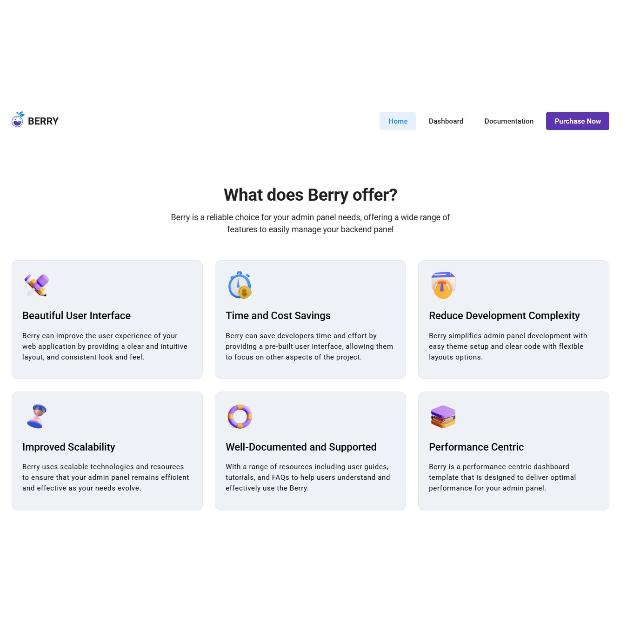QLabel: (20, 462, 192, 493), (224, 462, 392, 493), (224, 332, 393, 362), (20, 331, 188, 361), (427, 332, 589, 362), (428, 462, 578, 492), (224, 186, 398, 204), (171, 212, 451, 220), (428, 309, 580, 321), (227, 224, 395, 234), (224, 441, 378, 451), (20, 309, 132, 319), (225, 310, 331, 320), (22, 441, 116, 452), (429, 441, 525, 451), (484, 118, 534, 124), (555, 118, 601, 124), (28, 116, 58, 124), (428, 117, 464, 123), (388, 117, 408, 123)
VAppBar: (0, 105, 640, 142)
VBtn: (546, 110, 610, 130), (379, 110, 416, 130)
VCard: (10, 258, 204, 380), (214, 258, 406, 380), (214, 389, 406, 511), (418, 390, 610, 512), (418, 258, 610, 380), (12, 391, 205, 512)
VImg: (431, 270, 457, 298), (229, 270, 253, 298), (430, 404, 458, 428), (227, 404, 253, 428), (24, 272, 48, 298), (27, 403, 48, 429), (11, 110, 25, 126)
